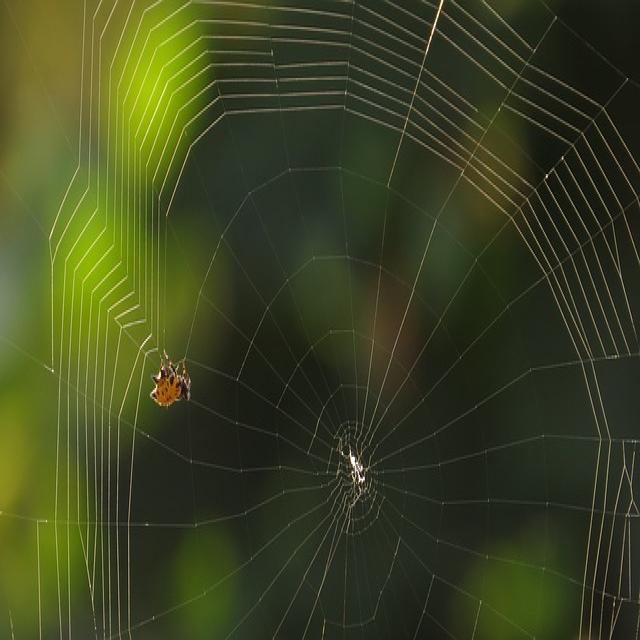spyder: (150, 354, 191, 406)
